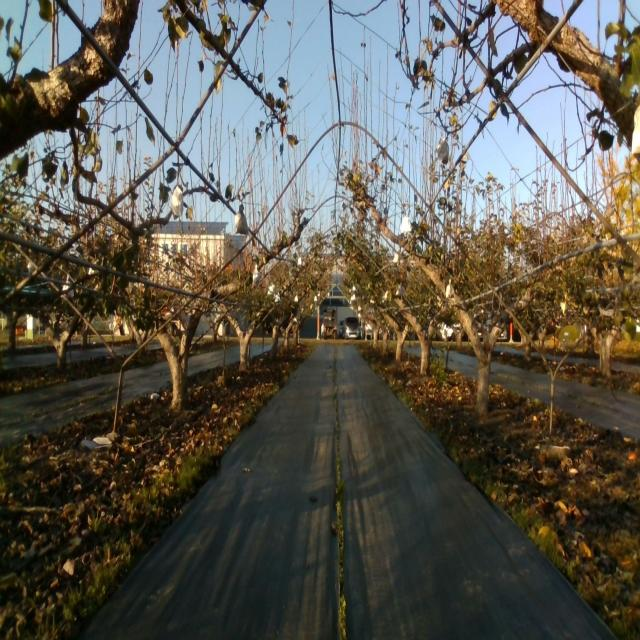pearbags: (234, 205, 248, 236), (171, 188, 184, 218), (437, 138, 449, 164)
